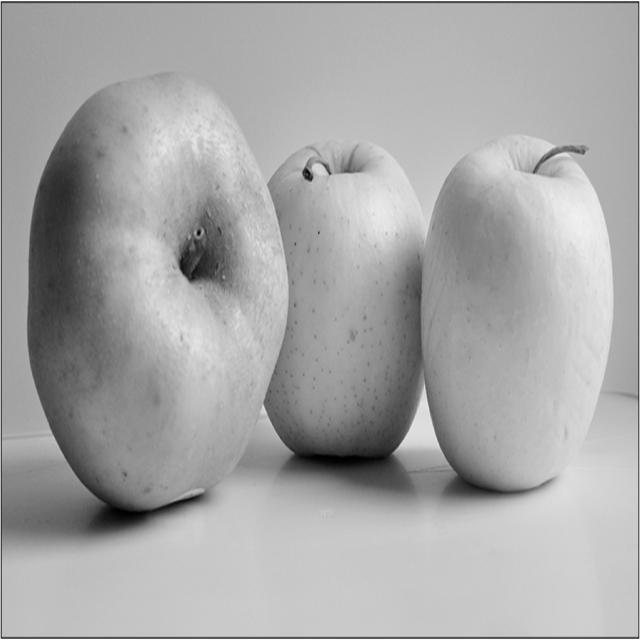Healty Apple: (24, 76, 290, 516), (406, 130, 614, 498), (265, 129, 429, 463)
